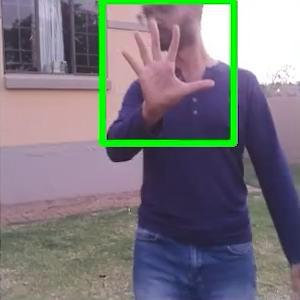follow_hand: (117, 13, 216, 113)
